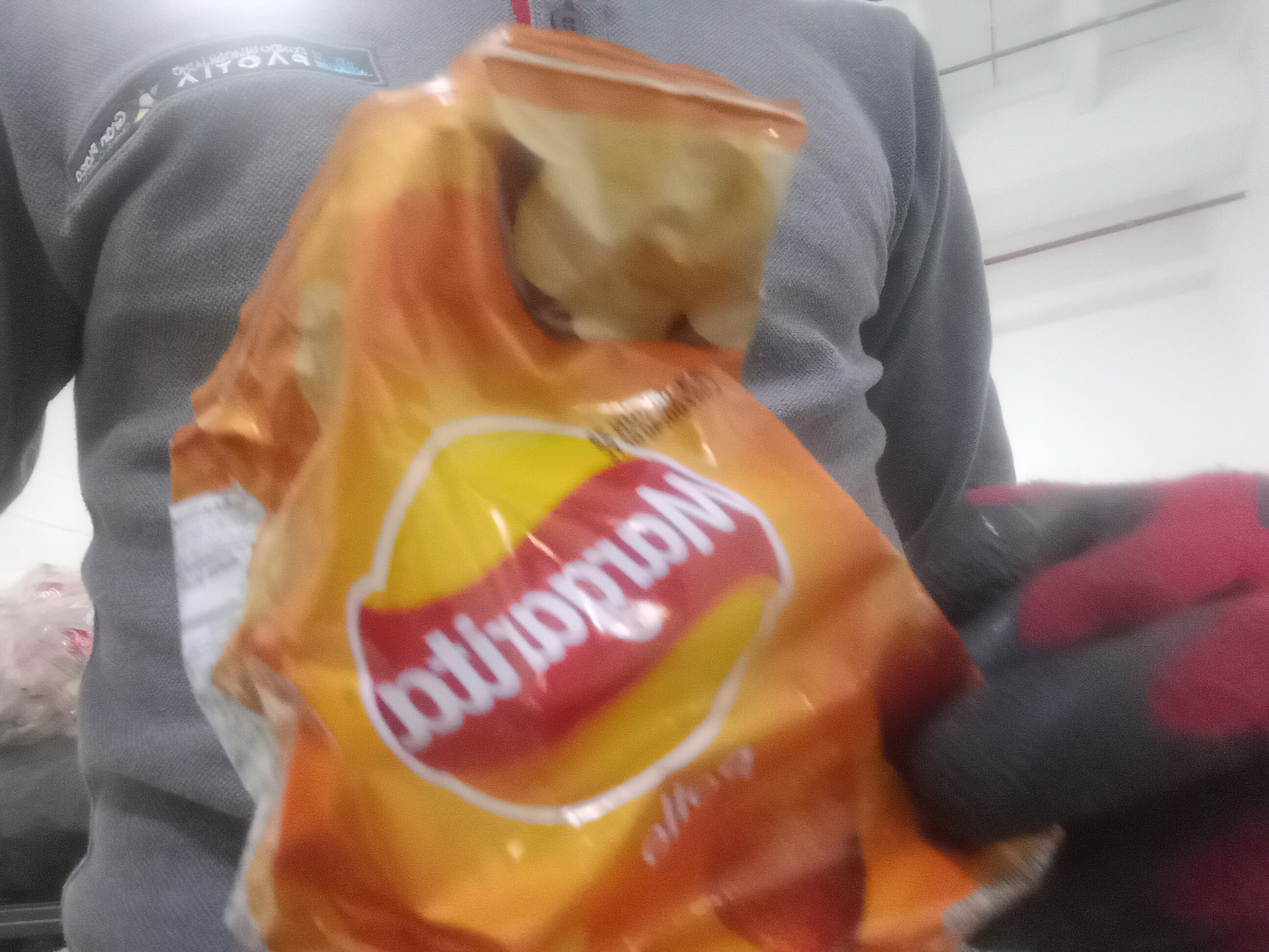Ordinario: (169, 29, 1065, 952)
